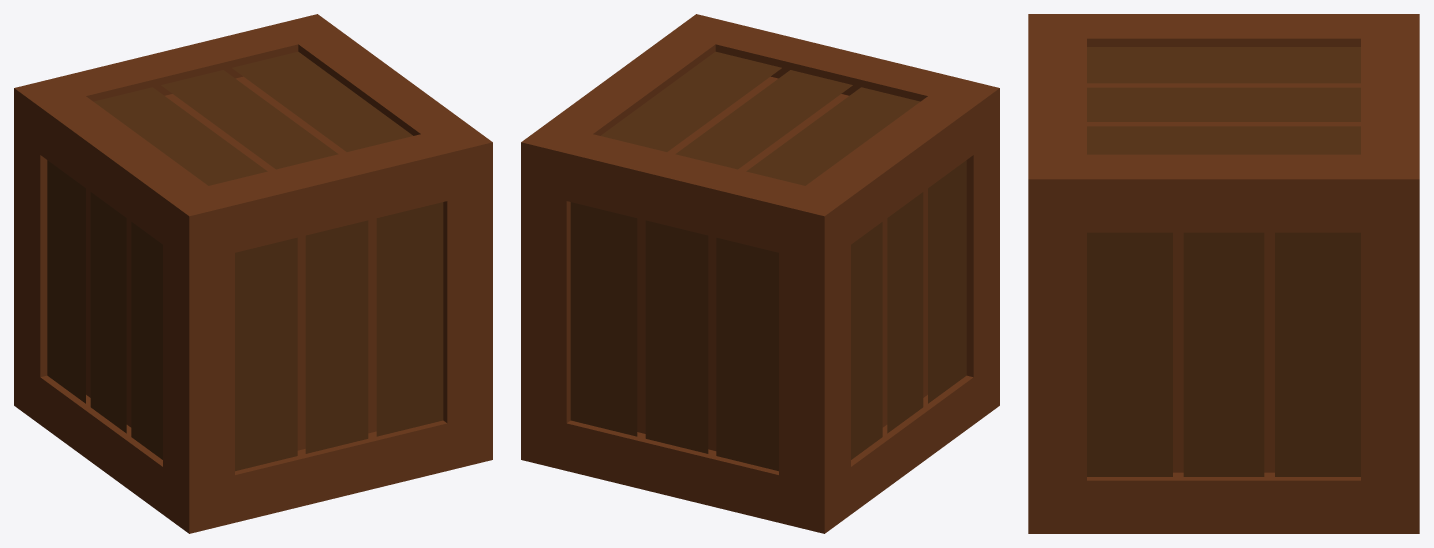
Rendered from Crate.fbx.
3 views of the same model, side by side, from view 1: azimuth 30°, elevation 25°; view 2: azimuth 150°, elevation 25°; view 3: azimuth 270°, elevation 25° (orthographic). The views are drawn at different scales.
Parts seen in each view (by area): view 1: Cube, Cube.002, Cube.001, Cube.003; view 2: Cube, Cube.002, Cube.001, Cube.003; view 3: Cube, Cube.001, Cube.003.
Boxes of the visible parts, x1,y1,x2,y2 form: Cube: (14, 14, 492, 533); Cube.002: (235, 202, 443, 471); Cube.001: (47, 160, 162, 459); Cube.003: (94, 51, 412, 185); Cube: (521, 14, 999, 533); Cube.002: (570, 202, 778, 471); Cube.001: (851, 160, 966, 459); Cube.003: (601, 51, 919, 185); Cube: (1028, 14, 1419, 533); Cube.001: (1087, 232, 1360, 476); Cube.003: (1087, 47, 1360, 154).
Size of the model in its own units: 200 by 200 by 200.
